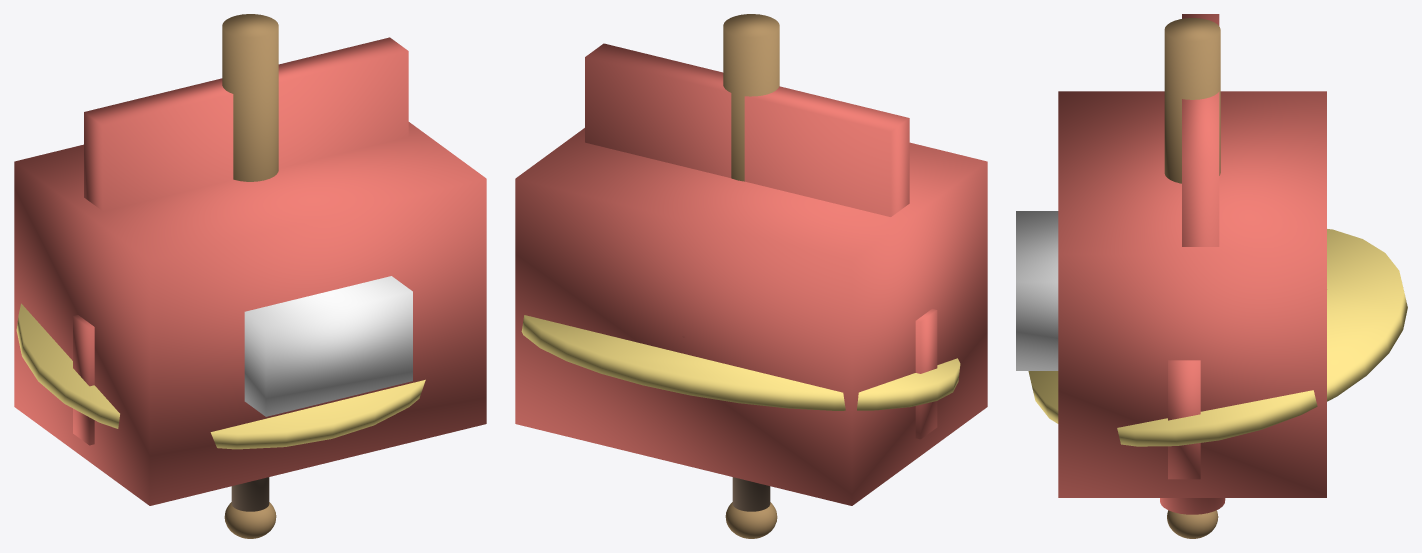
The model's file is extras.fbx.
The picture shows the model from 3 angles, left to right: view 1: azimuth 30°, elevation 25°; view 2: azimuth 150°, elevation 25°; view 3: azimuth 270°, elevation 25°; orthographic projection.
Visible parts, largest first — view 1: cube-chest, cape, sneakers, bat-wood, brim; view 2: cube-chest, cape, brim, bat-wood; view 3: cube-chest, brim, cape, bat-wood, sneakers, horns.
Boxes of the visible parts, box(x1,y1,x2,y2) form: cube-chest: box(14, 122, 486, 505); cape: box(73, 37, 408, 445); sneakers: box(244, 276, 412, 416); bat-wood: box(222, 14, 278, 538); brim: box(16, 303, 425, 449); cube-chest: box(515, 128, 987, 505); cape: box(585, 43, 937, 439); brim: box(521, 315, 960, 410); bat-wood: box(723, 14, 779, 538); cube-chest: box(1058, 91, 1326, 497); brim: box(1028, 229, 1407, 446); cape: box(1168, 14, 1219, 479); bat-wood: box(1164, 18, 1220, 538); sneakers: box(1016, 211, 1058, 370); horns: box(1160, 498, 1225, 514).
Size of the model in its own units: 1.95 by 2.39 by 1.68.
